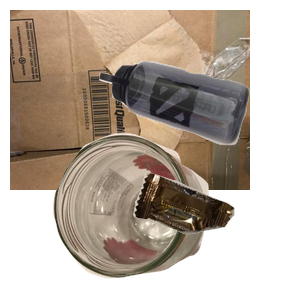cardboard: (10, 10, 250, 190)
glass: (50, 131, 252, 300)
plastic: (97, 59, 300, 197)
trash: (131, 171, 300, 300)
